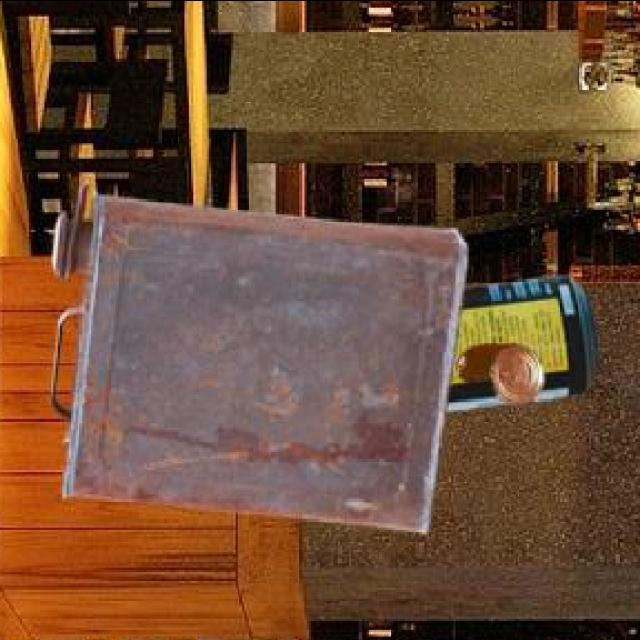logam: (54, 177, 472, 528), (450, 272, 599, 406), (461, 341, 548, 399)
